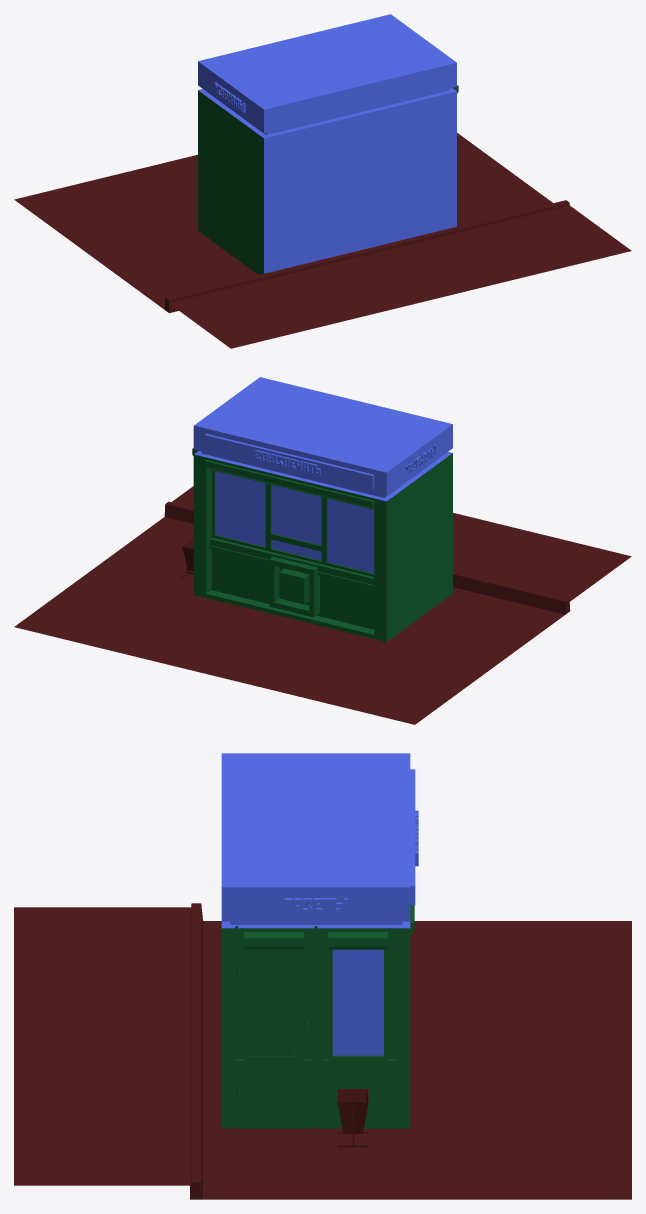
File: Kiosk.fbx
3 views of the same model, one above another, from view 1: azimuth 30°, elevation 25°; view 2: azimuth 150°, elevation 25°; view 3: azimuth 270°, elevation 25° (orthographic). The views are drawn at different scales.
Visible parts, largest first — view 1: B_Side, Object003, Box004, roof, L_Side, Box008, T_Side; view 2: Box004, roof, F_Side, L_Side, glass, Object003, Box008, T_Side; view 3: Box004, Object003, roof, R_Side, glass, Box008, Box007, T_Side.
Part boxes in pixels (bbox=[...]): B_Side: bbox=[264, 91, 456, 273]; Object003: bbox=[169, 205, 631, 348]; Box004: bbox=[14, 133, 552, 309]; roof: bbox=[198, 14, 456, 135]; L_Side: bbox=[198, 90, 263, 274]; Box008: bbox=[164, 200, 569, 313]; T_Side: bbox=[198, 88, 456, 138]; Box004: bbox=[14, 517, 564, 724]; roof: bbox=[193, 377, 452, 497]; F_Side: bbox=[193, 454, 386, 641]; L_Side: bbox=[386, 453, 452, 641]; glass: bbox=[215, 471, 374, 573]; Object003: bbox=[171, 486, 631, 601]; Box008: bbox=[164, 501, 570, 614]; T_Side: bbox=[194, 451, 452, 501]; Box004: bbox=[203, 921, 631, 1199]; Object003: bbox=[14, 907, 191, 1185]; roof: bbox=[221, 753, 418, 924]; R_Side: bbox=[221, 926, 410, 1128]; glass: bbox=[332, 949, 383, 1055]; Box008: bbox=[190, 903, 202, 1199]; Box007: bbox=[337, 1089, 368, 1147]; T_Side: bbox=[221, 921, 410, 928].
Size of the model in its own units: 8000 by 3230 by 7500.
